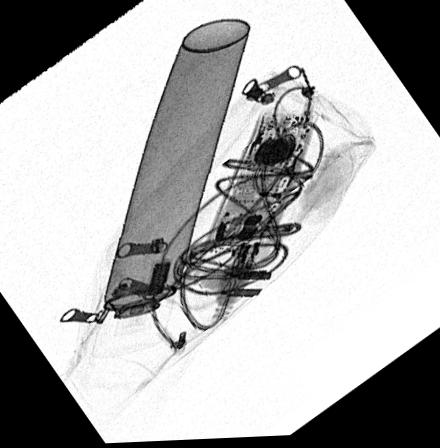Sprayer: (92, 18, 250, 360)
